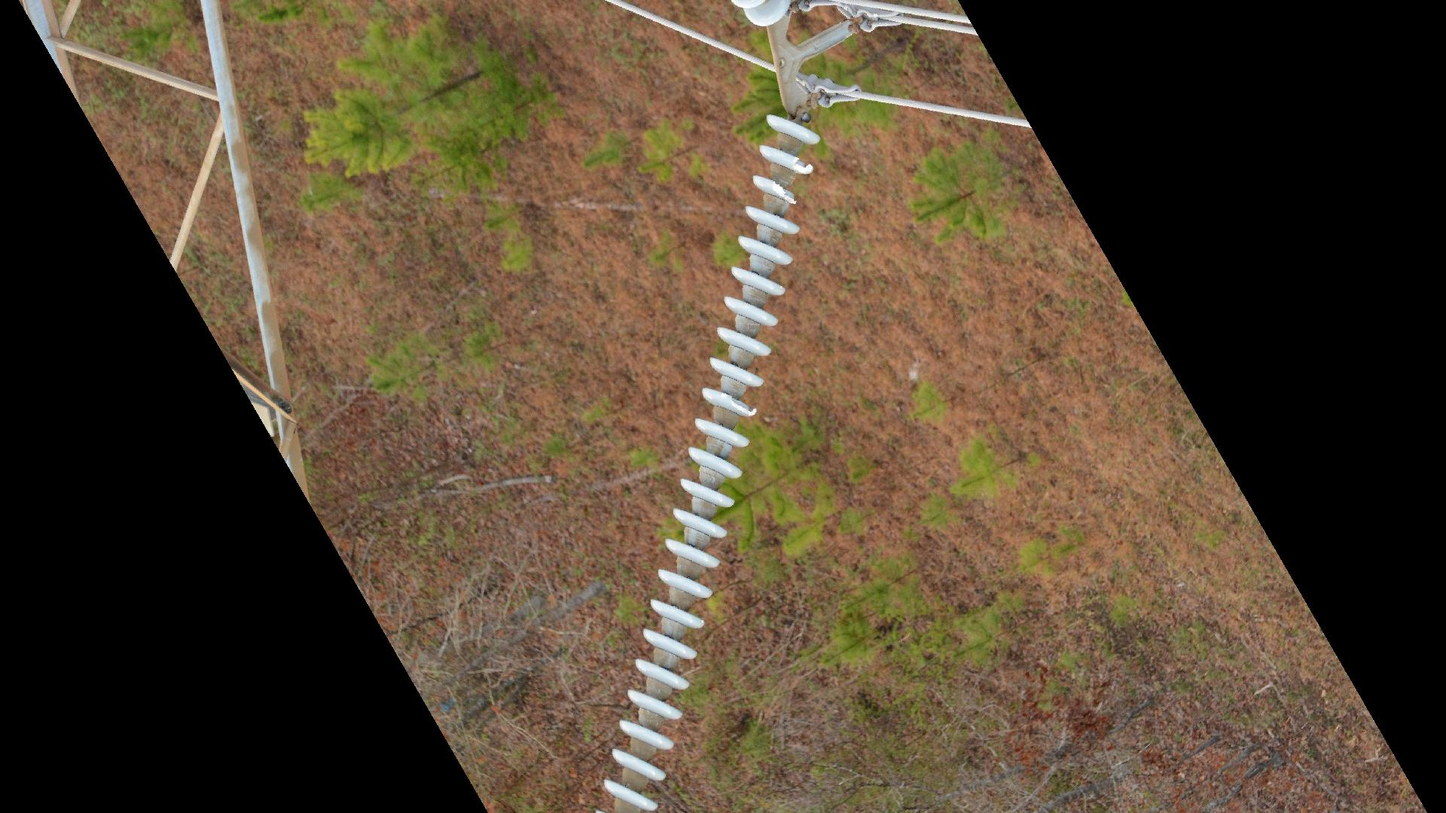insulator: (596, 106, 825, 813), (719, 1, 798, 35)
insulator_breakage: (721, 391, 761, 420), (767, 177, 803, 209), (786, 152, 818, 179)
